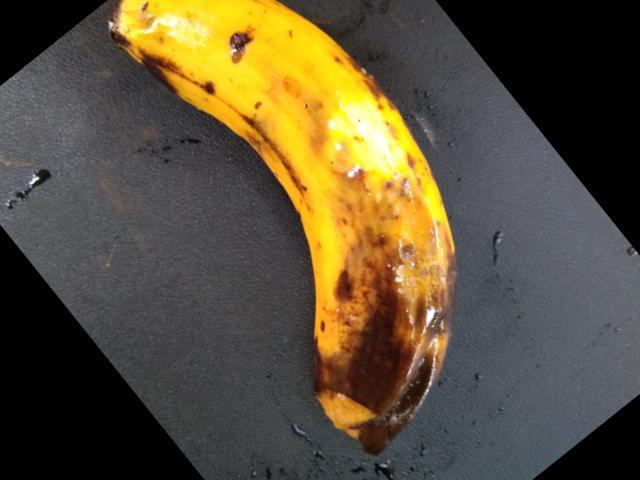ripe: (100, 0, 429, 153)
rotten: (262, 125, 488, 454)
